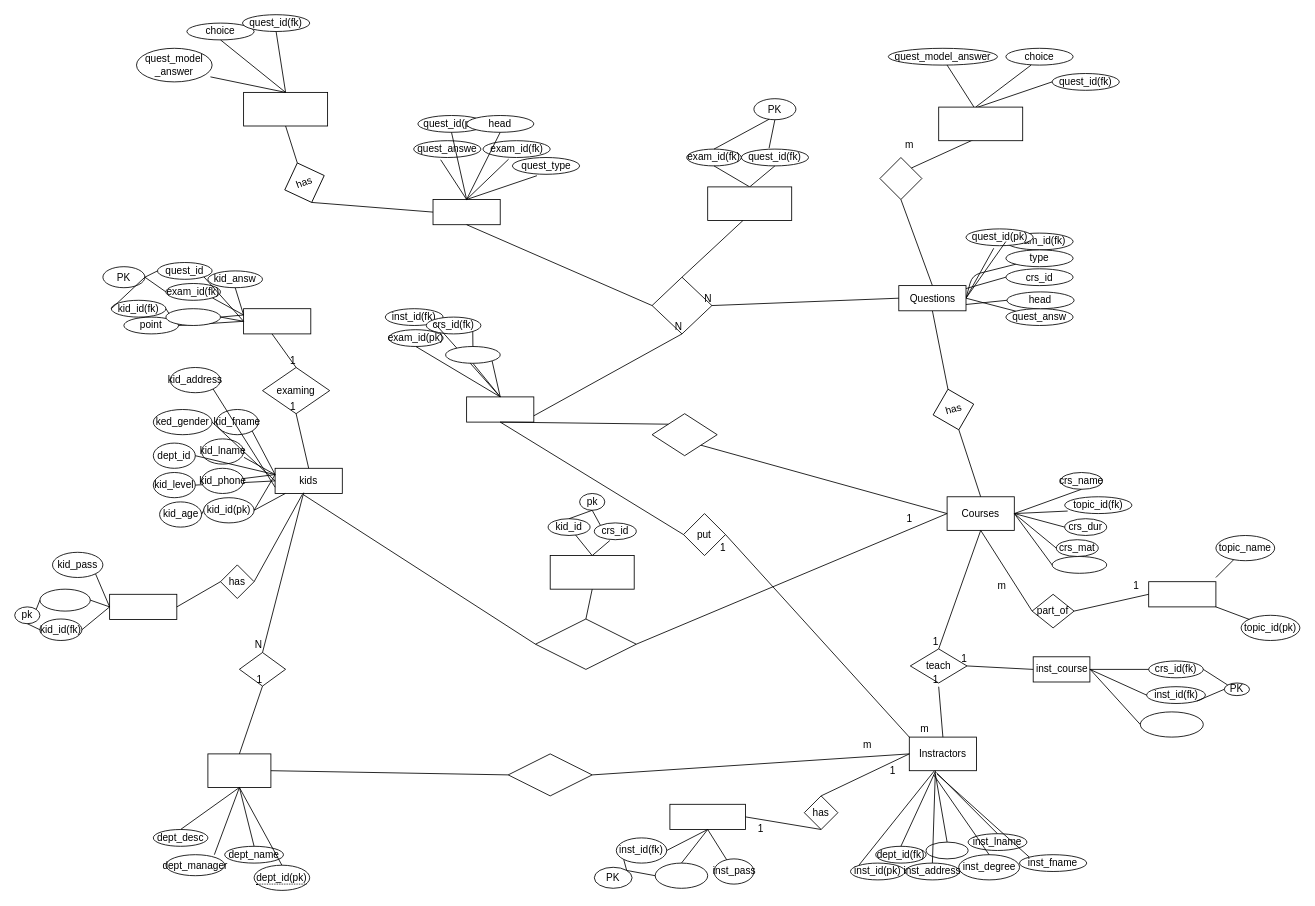
The diagram is 1315 pixels wide and 906 high, and some of its shapes have lost their labels. The centre of each missing label's shape, as x and y in pixels:
"consist of" goes at pixel 681 305.
"crs_id(pk)" goes at pixel 1079 564.
"date" goes at pixel 192 317.
"Departments" goes at pixel 239 770.
"Exa_Kid_Ans" goes at pixel 277 321.
"exam_date" goes at pixel 472 354.
"Exam_Questions" goes at pixel 749 203.
"Exams" goes at pixel 500 409.
"ins evaluation" goes at pixel 1171 724.
"inst_email(fk)" goes at pixel 681 875.
"inst_sal" goes at pixel 946 850.
"kid_course" goes at pixel 591 572.
"kid_email (fk)" goes at pixel 64 599.
"Login_inst" goes at pixel 707 816.
"Login_kid" goes at pixel 143 606.
"made from" goes at pixel 684 434.
"model choice" goes at pixel 980 123.
"Model_choice_IQ" goes at pixel 285 109.
"part of" goes at pixel 900 178.
"Questions_IQ" goes at pixel 466 212.
"study" goes at pixel 262 669.
"take" goes at pixel 585 643.
"Topics" goes at pixel 1182 594.
"work" goes at pixel 549 774.
